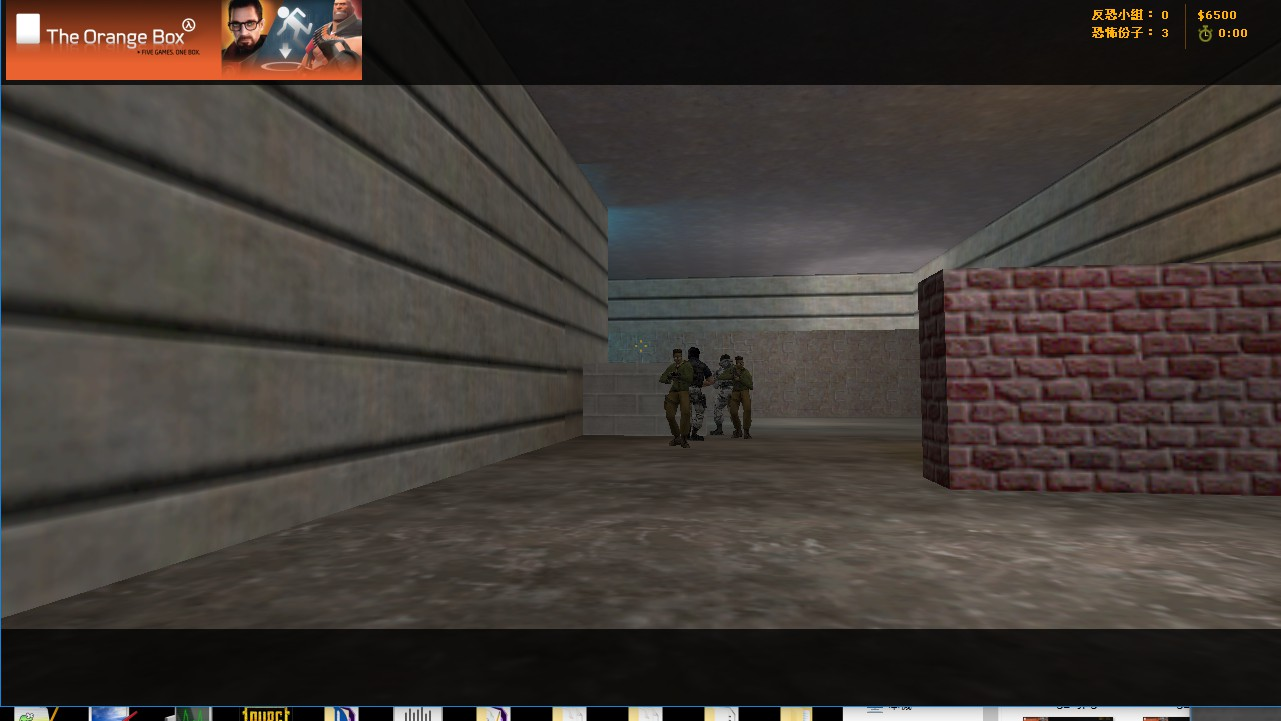person: (651, 342, 693, 457), (727, 351, 761, 444)
